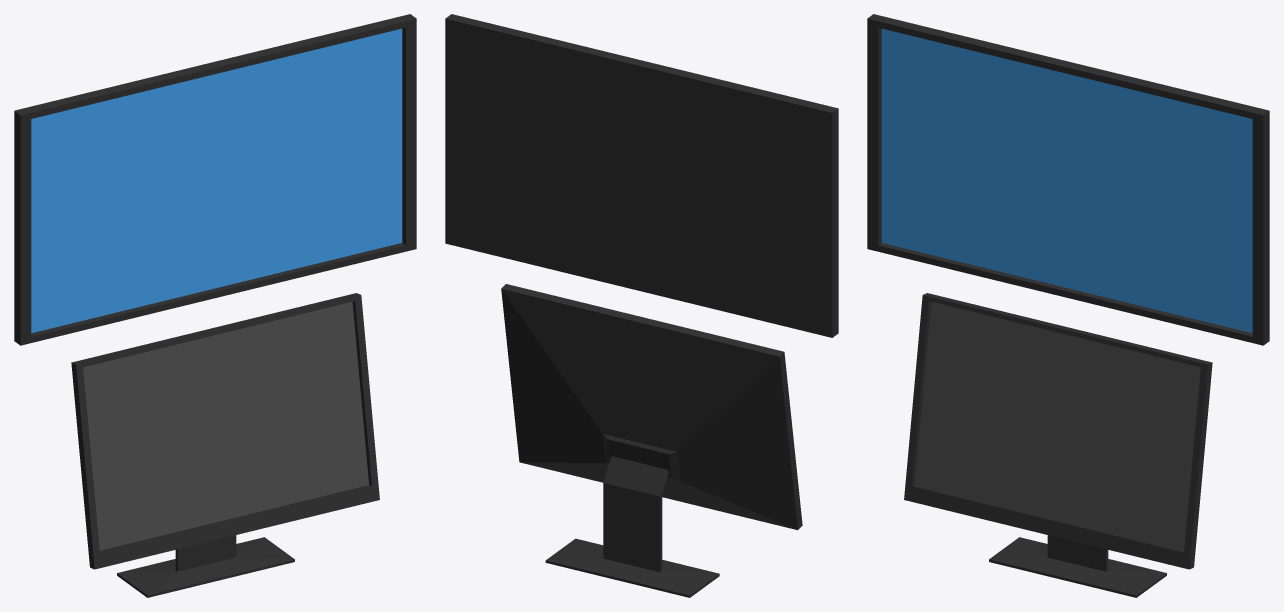
Rendered from monitor_2.fbx.
3 renders of one model, left to right at view 1: azimuth 30°, elevation 25°; view 2: azimuth 150°, elevation 25°; view 3: azimuth 330°, elevation 25°, orthographic. The views are drawn at different scales.
Visible parts, largest first — view 1: monitor2; view 2: monitor2; view 3: monitor2.
Boxes of the visible parts, bbox=[...] form: monitor2: bbox=[14, 14, 416, 597]; monitor2: bbox=[445, 14, 838, 597]; monitor2: bbox=[867, 14, 1269, 597].
Size of the model in its own units: 1.8 by 2.22 by 0.3673.
Materials: 1 (1 with a texture image).
